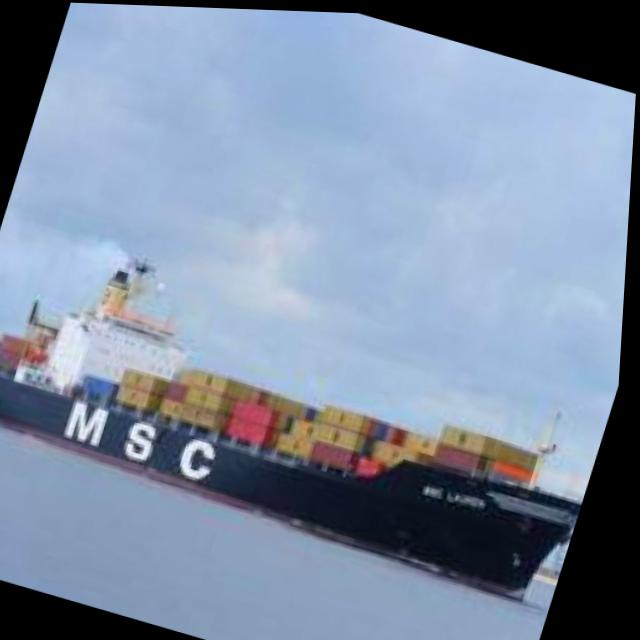ship2: (0, 257, 587, 597)
